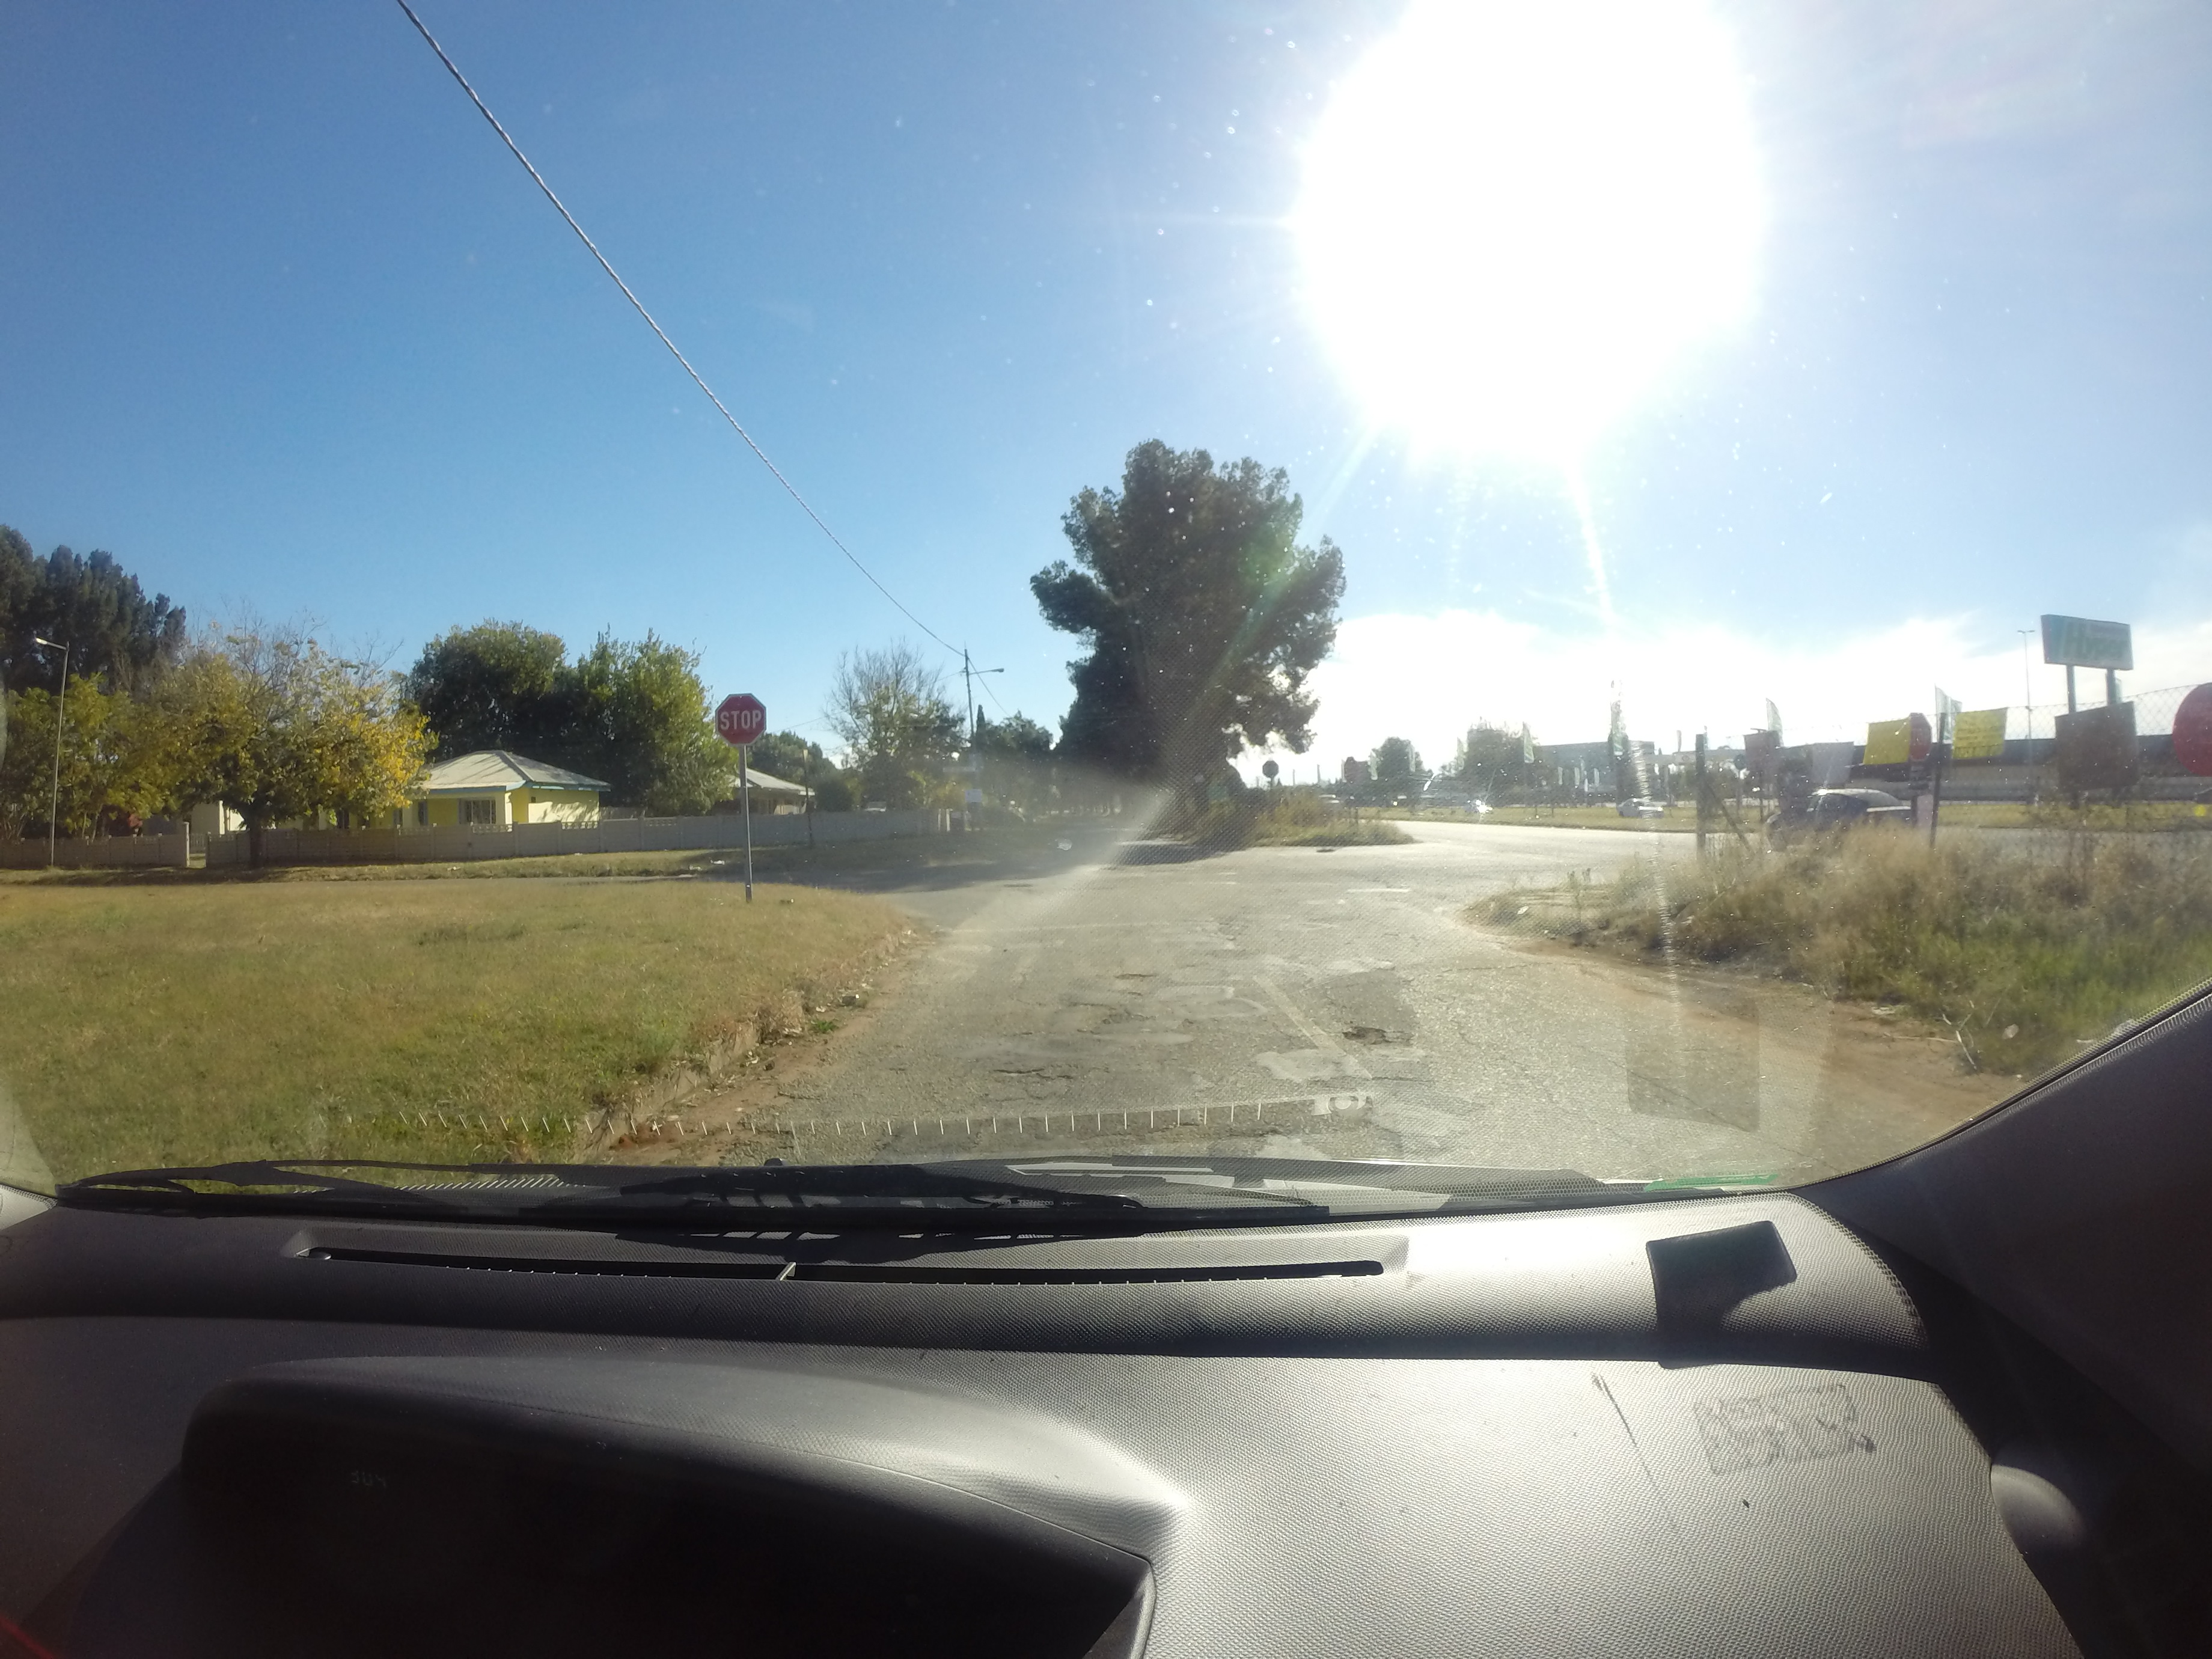pothole: (1242, 945, 1487, 1122)
